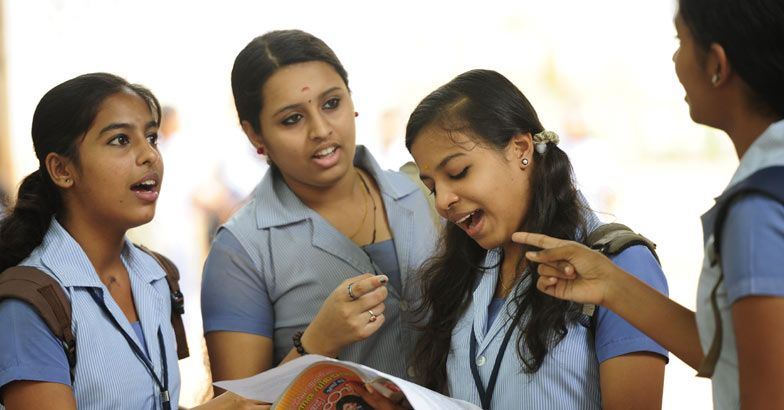Person: (511, 1, 784, 409), (202, 30, 448, 410), (405, 69, 669, 410), (1, 72, 181, 410)
